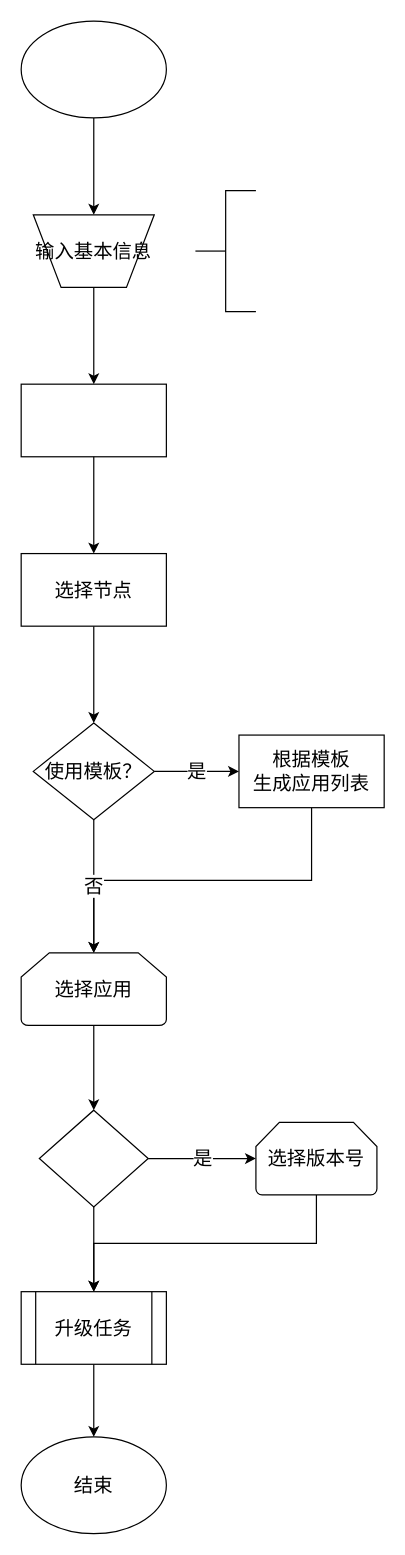
Image size: 405x1555. Some labels were removed from this diagram. The box of each missing label's shape, as (x1, y1, x2, y2) in pixels:
修改版本？: (38, 1109, 148, 1207)
开始: (20, 20, 166, 118)
标题 升级原因 影响范围: (194, 189, 256, 312)
选择环境: (20, 383, 166, 457)
